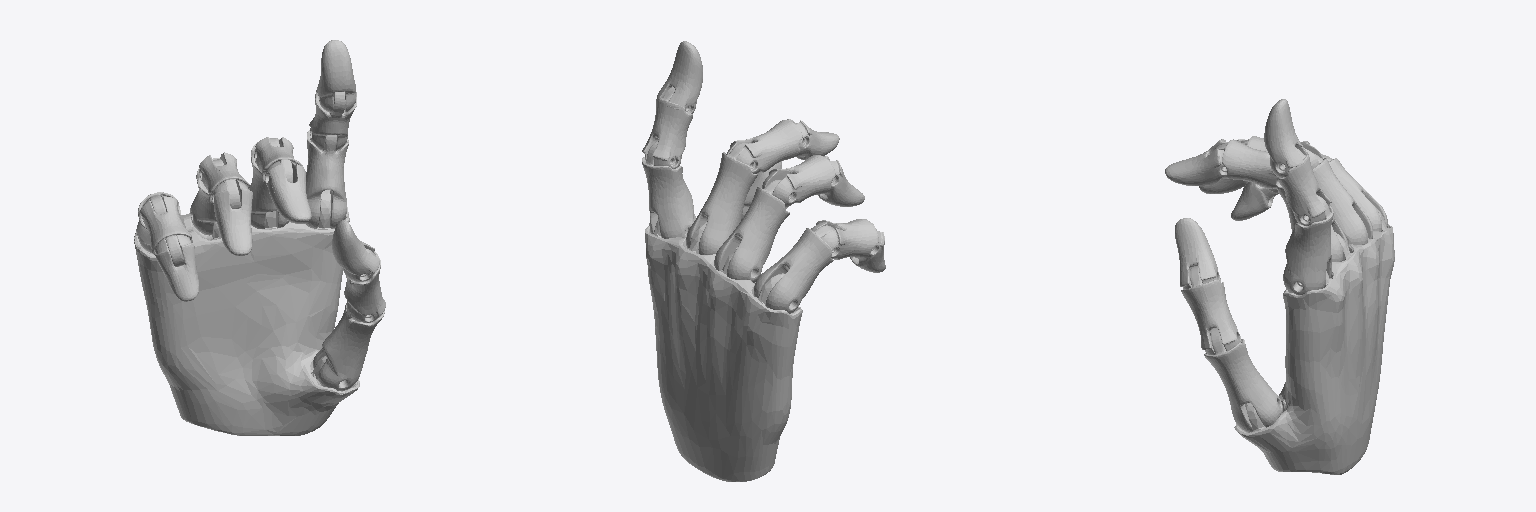
File: pointyHand.obj
3 views of the same model, side by side, from view 1: azimuth 30°, elevation 25°; view 2: azimuth 150°, elevation 25°; view 3: azimuth 270°, elevation 25° (orthographic).
Visible parts, largest first — view 1: Circle.007, Sphere.062, Sphere.066, Sphere.069, Sphere.068, Sphere.074, Sphere.060, Sphere.064, Sphere.063, Sphere.067, Sphere.061, Sphere.070 (+4 smaller); view 2: Circle.007, Sphere.071, Sphere.072, Sphere.065, Sphere.066, Sphere.067, Sphere.070, Sphere.073, Sphere.068, Sphere.064, Sphere.069, Sphere.074 (+1 smaller); view 3: Circle.007, Sphere.062, Sphere.066, Sphere.061, Sphere.071, Sphere.067, Sphere.068, Sphere.060, Sphere.073, Sphere.074, Sphere.065, Sphere.063 (+1 smaller).
Boxes of the visible parts, box(x1,y1,x2,y2) form: Circle.007: box(134, 190, 359, 435); Sphere.062: box(313, 302, 384, 390); Sphere.066: box(305, 130, 348, 228); Sphere.069: box(212, 180, 252, 255); Sphere.068: box(316, 40, 355, 112); Sphere.074: box(265, 162, 311, 223); Sphere.060: box(332, 220, 379, 281); Sphere.064: box(140, 195, 192, 266); Sphere.063: box(155, 235, 198, 301); Sphere.067: box(309, 92, 356, 150); Sphere.061: box(343, 248, 385, 322); Sphere.070: box(199, 152, 249, 208); Circle.007: box(645, 219, 802, 481); Sphere.071: box(714, 180, 789, 282); Sphere.072: box(686, 143, 757, 254); Sphere.065: box(754, 225, 834, 313); Sphere.066: box(642, 141, 695, 238); Sphere.067: box(642, 87, 692, 168); Sphere.070: box(762, 155, 835, 207); Sphere.073: box(726, 120, 802, 173); Sphere.068: box(657, 41, 702, 113); Sphere.064: box(811, 219, 878, 259); Sphere.069: box(818, 156, 864, 206); Sphere.074: box(787, 119, 839, 159); Circle.007: box(1234, 207, 1394, 474); Sphere.062: box(1204, 328, 1282, 432); Sphere.066: box(1283, 195, 1333, 294); Sphere.061: box(1181, 266, 1241, 354); Sphere.071: box(1313, 153, 1372, 244); Sphere.067: box(1278, 147, 1331, 225); Sphere.068: box(1264, 99, 1309, 177); Sphere.060: box(1175, 218, 1220, 288); Sphere.073: box(1215, 139, 1281, 189); Sphere.074: box(1165, 139, 1228, 185); Sphere.065: box(1322, 155, 1387, 231); Sphere.063: box(1231, 182, 1275, 220).
Bounding box in the file's own units: 2.05 × 3.55 × 1.89.